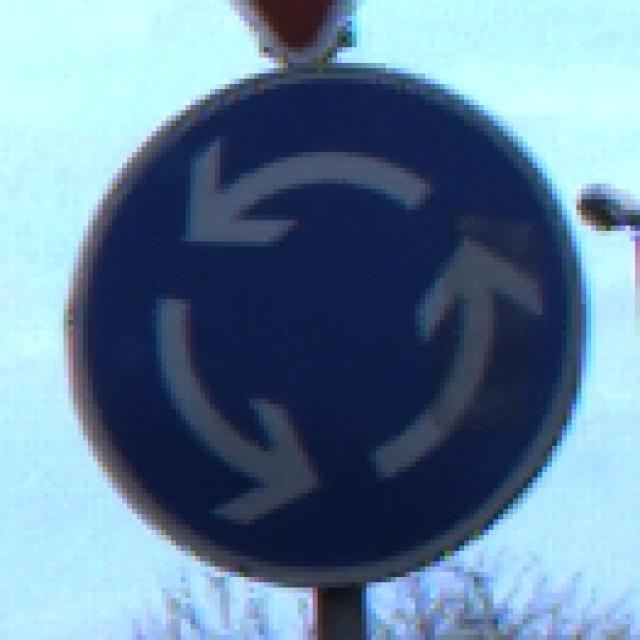roundabout: (67, 60, 594, 597)
